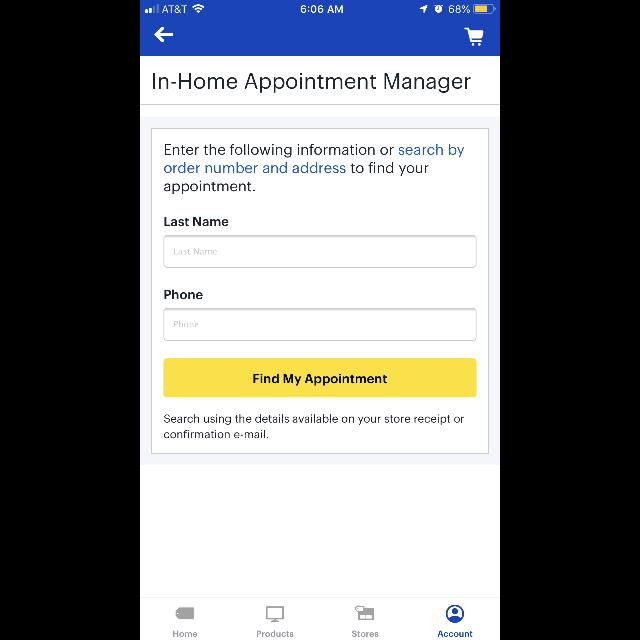icon: (464, 28, 484, 46), (446, 605, 464, 623), (154, 27, 173, 43), (176, 607, 194, 619)
image: (266, 606, 284, 622), (356, 606, 374, 620)
input: (164, 235, 476, 268), (164, 308, 476, 340)
text: (164, 144, 464, 194), (164, 414, 464, 438), (154, 73, 470, 93), (165, 217, 229, 227), (165, 290, 203, 300), (175, 248, 218, 254), (256, 631, 294, 637), (438, 631, 472, 637), (174, 320, 198, 328), (352, 631, 378, 637), (174, 631, 198, 637)
textbutton: (164, 358, 476, 398)
uppertaskbar: (140, 0, 500, 14)
